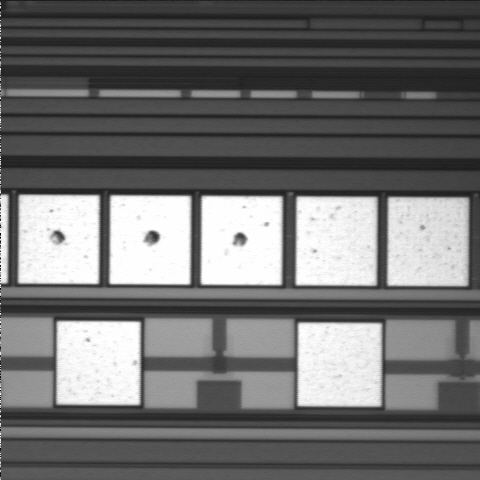pad: (109, 196, 191, 285), (18, 195, 99, 284), (201, 196, 282, 285), (296, 197, 377, 286), (388, 198, 468, 286), (57, 321, 140, 405), (298, 323, 382, 406)
